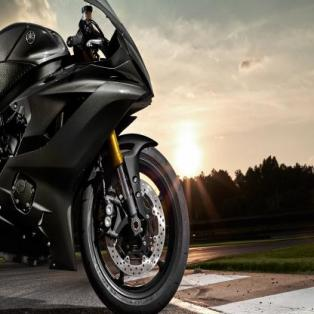Motocicleta: (0, 0, 196, 314)
